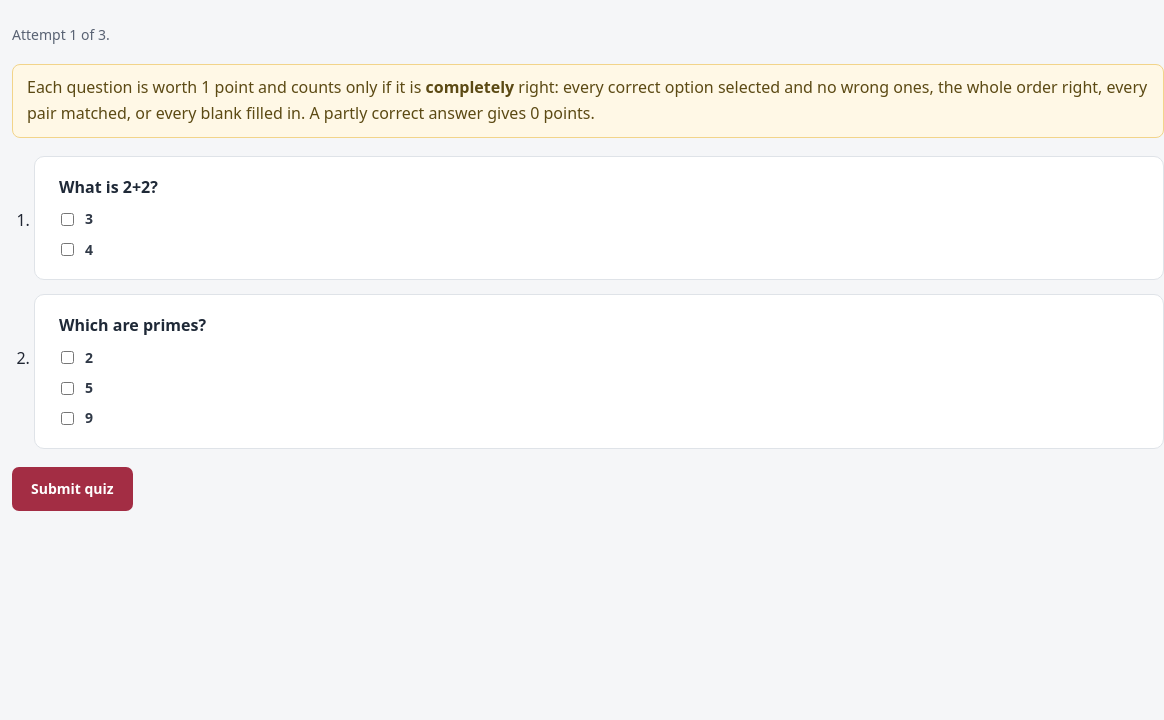
QuizTaker › shows an error and keeps the answers when submitting fails
Step 1. Click the checkbox labelled "4" → (68, 250), box [61,243,74,256]
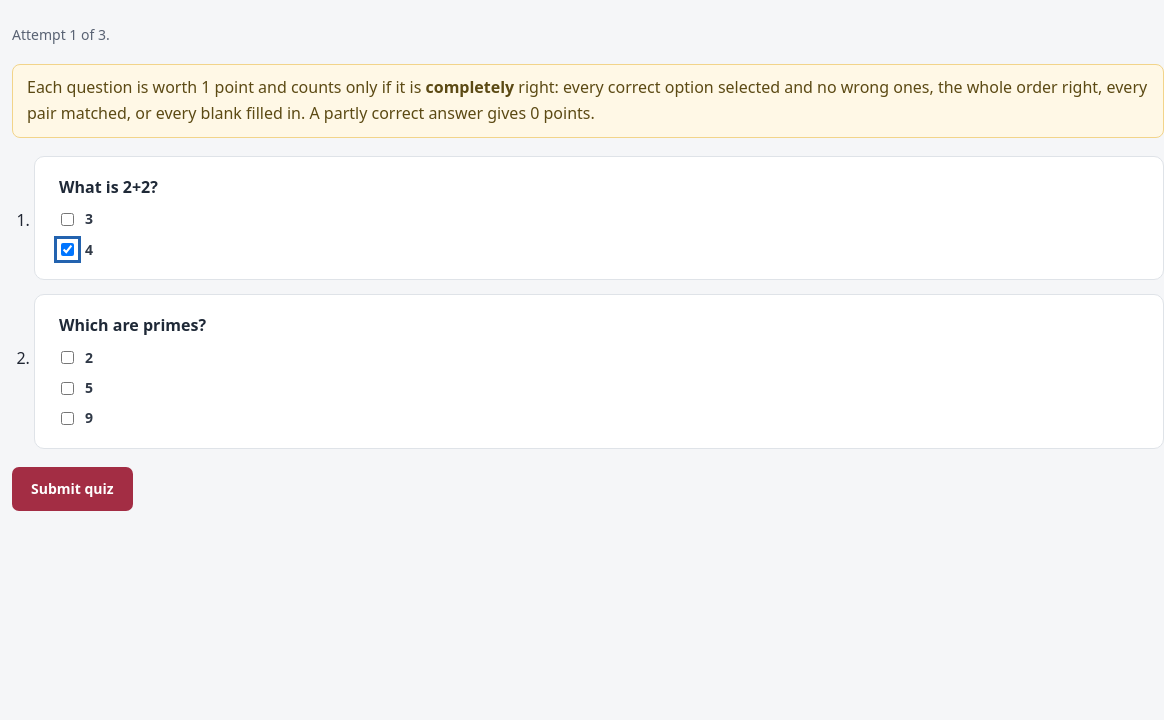
Step 2. Click the button "Submit quiz" → (72, 489), box [12,467,133,511]
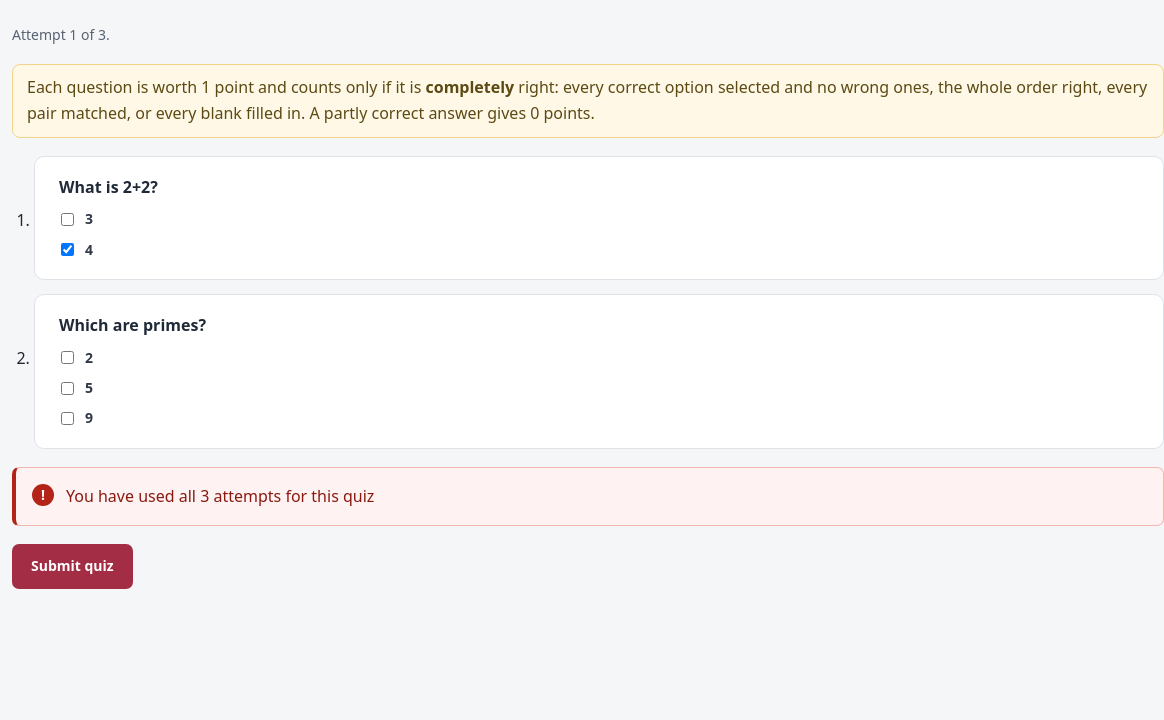
Expected: the checkbox labelled "4" is checked, [61,243,74,256]
Expected: the text "You have used all 3 attempts for this quiz" is shown, [66,484,374,509]
